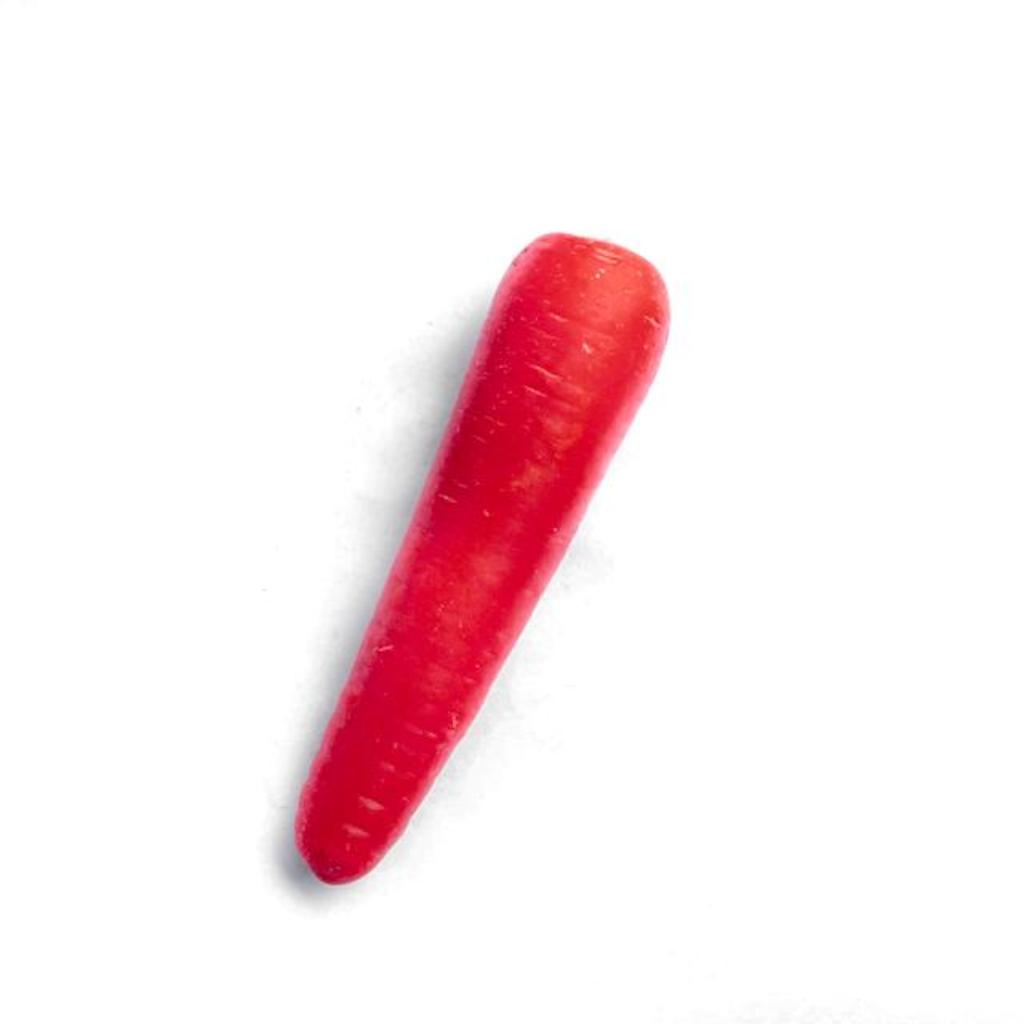carrot: (300, 234, 668, 883)
